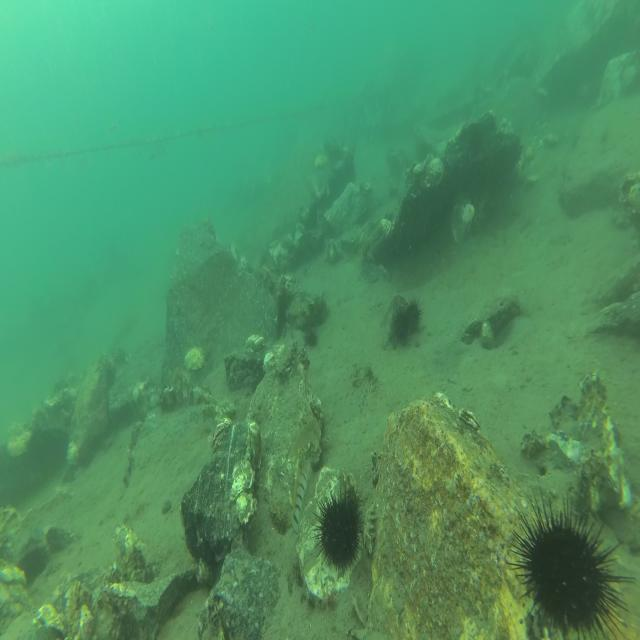echinus: (504, 486, 637, 640), (310, 473, 366, 575), (19, 543, 52, 583), (406, 292, 424, 329), (393, 304, 408, 340), (469, 120, 482, 158), (304, 327, 318, 348)
